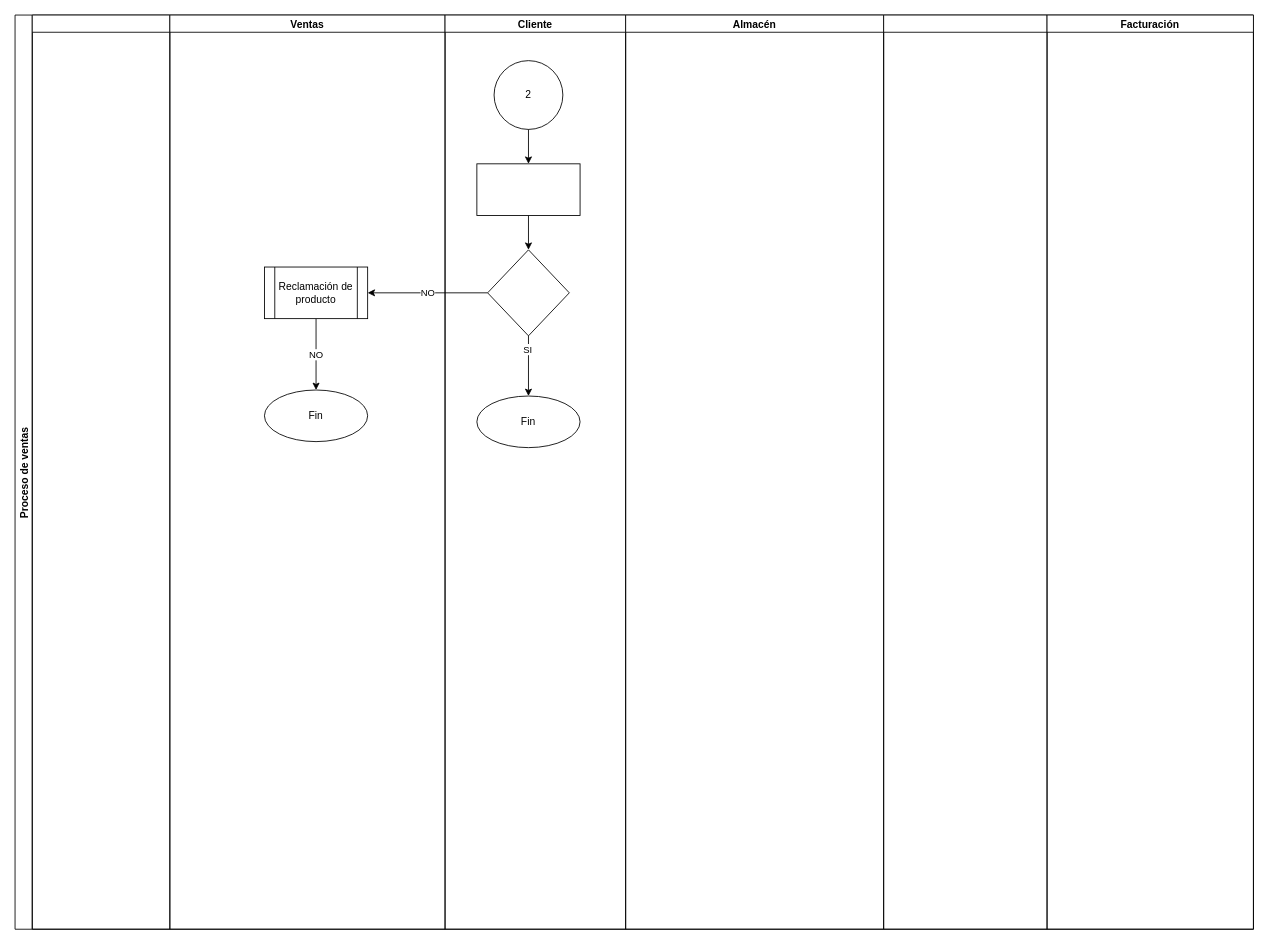
Some shapes in this 1269 by 944 pixel diagram are drawn without their labels. The shapes that lost their labels are listed below. From the top down, each one's centre as x and y in pixels, then its label:
At (528,189): "Validar que el material surtido esté correcto".
At (528,292): "¿El surtido es correcto?".
At (100,471): "Atención al cliente".
At (965,471): "Cred y Cobr".
